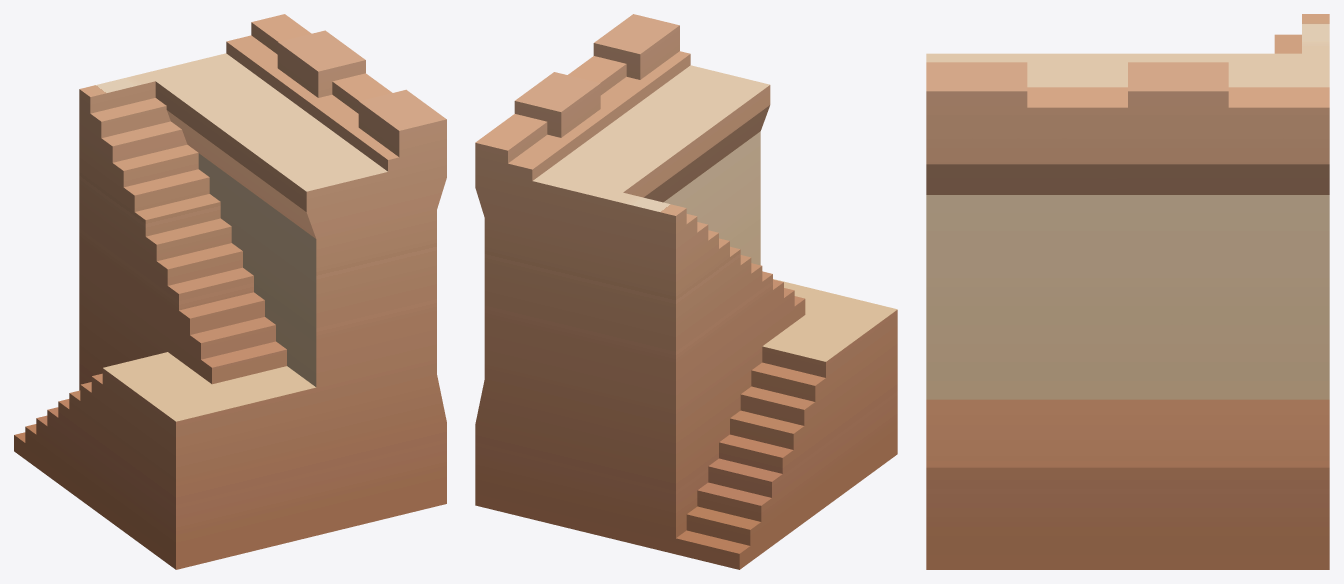
The model's file is wall-narrow-stairs.glb.
3 renders of one model, left to right at view 1: azimuth 30°, elevation 25°; view 2: azimuth 150°, elevation 25°; view 3: azimuth 270°, elevation 25°, orthographic. The views are drawn at different scales.
Parts seen in each view (by area): view 1: wall-narrow-stairs; view 2: wall-narrow-stairs; view 3: wall-narrow-stairs.
Boxes of the visible parts, x1,y1,x2,y2 form: wall-narrow-stairs: (14,14,446,569); wall-narrow-stairs: (475,14,897,569); wall-narrow-stairs: (926,14,1329,569).
Size of the model in its own units: 0.965 by 1.31 by 1.
1 material, 1 textured.
